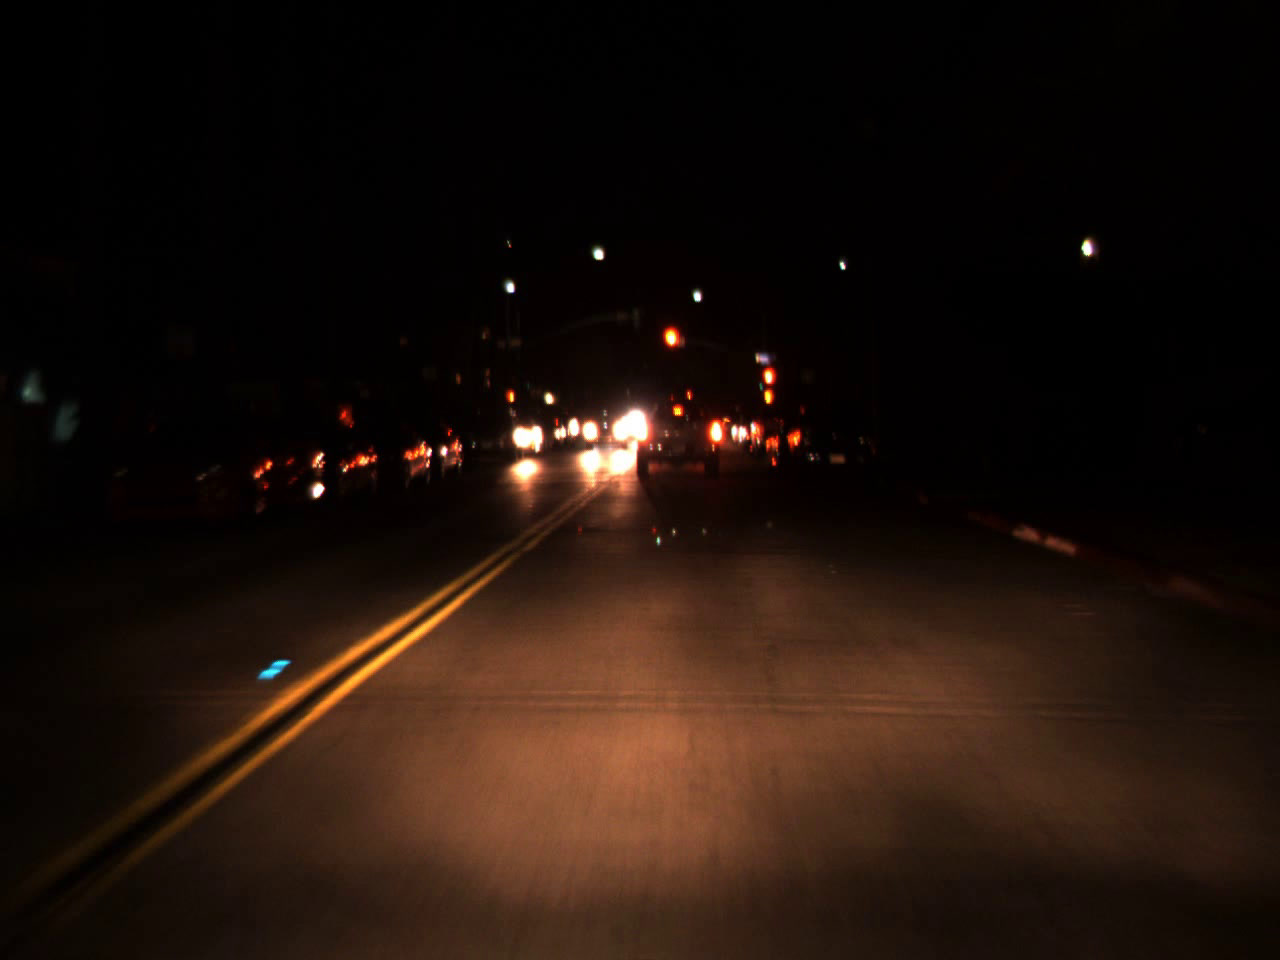stop: (660, 323, 684, 371), (761, 364, 777, 407)
